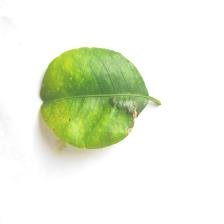greening: (35, 52, 98, 141)
